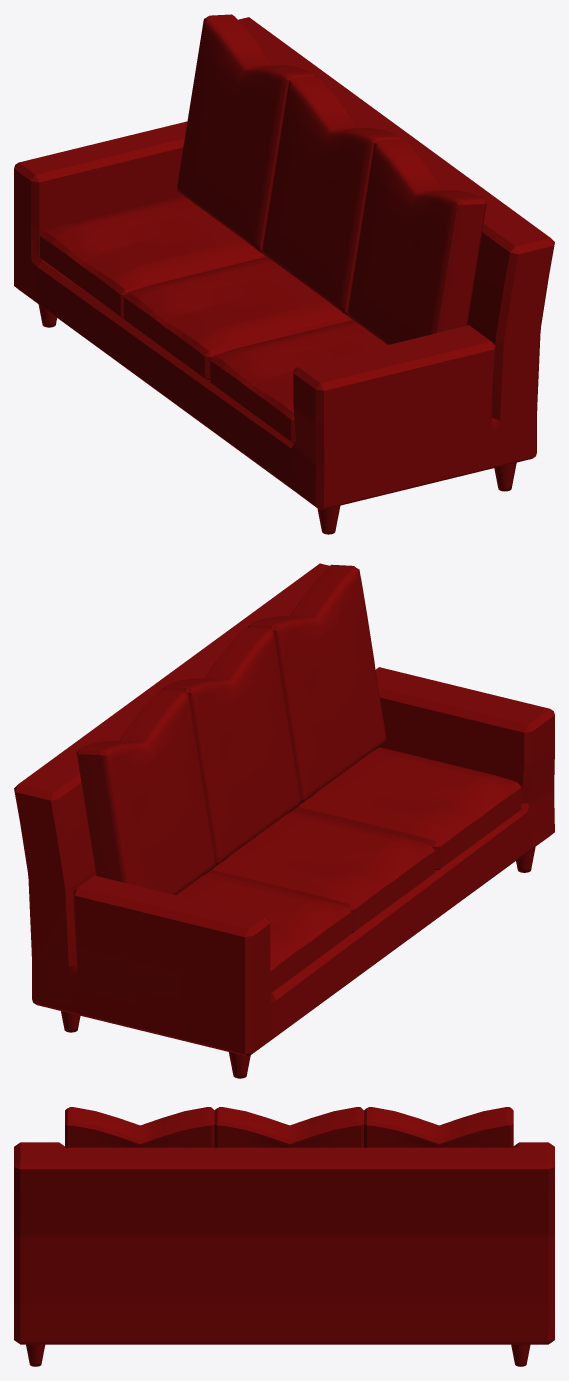
File: smallCouch.fbx
The picture shows the model from 3 angles, top to bottom: view 1: azimuth 30°, elevation 25°; view 2: azimuth 150°, elevation 25°; view 3: azimuth 270°, elevation 25°; orthographic projection. The views are drawn at different scales.
Parts seen in each view (by area): view 1: frame, backPillow2, backPillow, backPillow1, cushion1, cushion, cushion2; view 2: frame, backPillow, backPillow1, backPillow2, cushion2, cushion1, cushion; view 3: frame, backPillow1, backPillow2, backPillow, couchFoot4, couchFoot7.
Boxes of the visible parts, x1,y1,x2,y2 form: frame: (14, 17, 554, 510); backPillow2: (347, 139, 486, 344); backPillow: (176, 14, 315, 252); backPillow1: (262, 77, 400, 315); cushion1: (124, 257, 351, 379); cushion: (40, 195, 265, 318); cushion2: (210, 320, 387, 443); frame: (14, 563, 554, 1056); backPillow: (76, 689, 215, 895); backPillow1: (162, 627, 301, 865); backPillow2: (248, 564, 386, 803); cushion2: (293, 747, 521, 870); cushion1: (209, 810, 435, 932); cushion: (176, 871, 351, 992); frame: (14, 1142, 554, 1344); backPillow1: (214, 1107, 363, 1147); backPillow2: (65, 1107, 214, 1147); backPillow: (364, 1107, 513, 1147); couchFoot4: (511, 1344, 530, 1366); couchFoot7: (26, 1344, 45, 1366).
Size of the model in its own units: 2.65 by 2.97 by 5.92.
